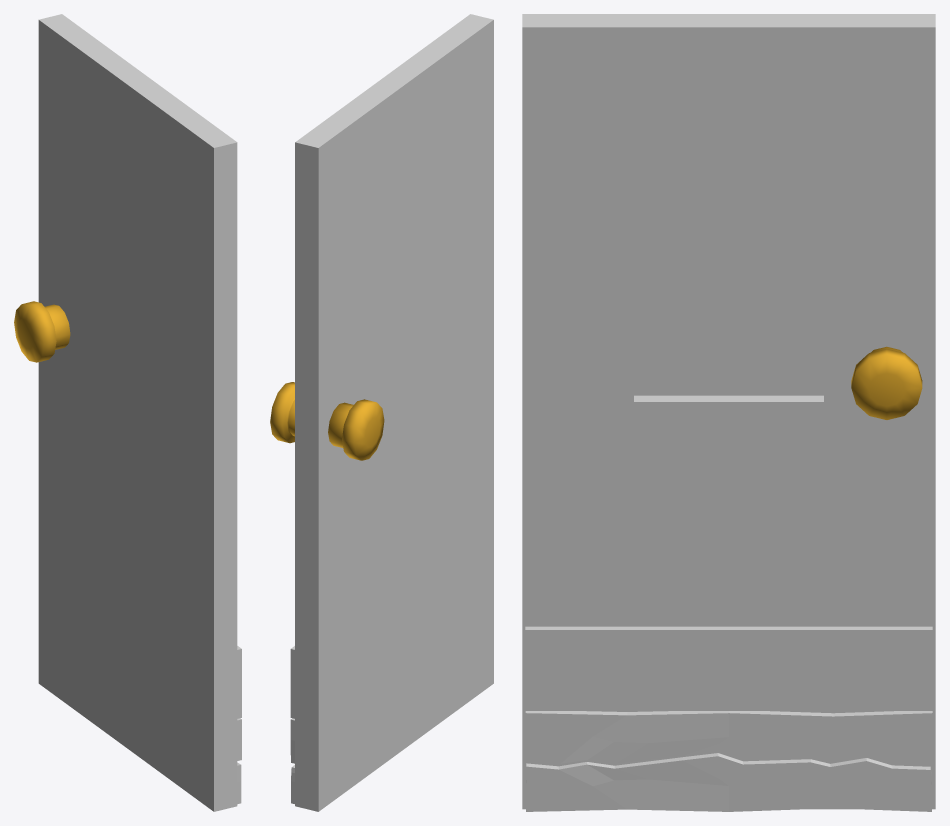
File: StylizedDoor.fbx
The picture shows the model from 3 angles, left to right: view 1: azimuth 30°, elevation 25°; view 2: azimuth 150°, elevation 25°; view 3: azimuth 270°, elevation 25°; orthographic projection. The views are drawn at different scales.
Visible parts, largest first — view 1: StylizedDoor, DoorKnobIn; view 2: StylizedDoor, DoorKnobIn, DoorKnobOut; view 3: StylizedDoor, DoorKnobOut.
Boxes of the visible parts, bbox=[...] form: StylizedDoor: bbox=[38, 14, 241, 811]; DoorKnobIn: bbox=[14, 301, 70, 362]; StylizedDoor: bbox=[290, 14, 493, 811]; DoorKnobIn: bbox=[328, 399, 384, 460]; DoorKnobOut: bbox=[270, 382, 294, 443]; StylizedDoor: bbox=[522, 14, 935, 811]; DoorKnobOut: bbox=[851, 346, 922, 419].
Bounding box in the file's own units: 42.47 × 297 × 142.
